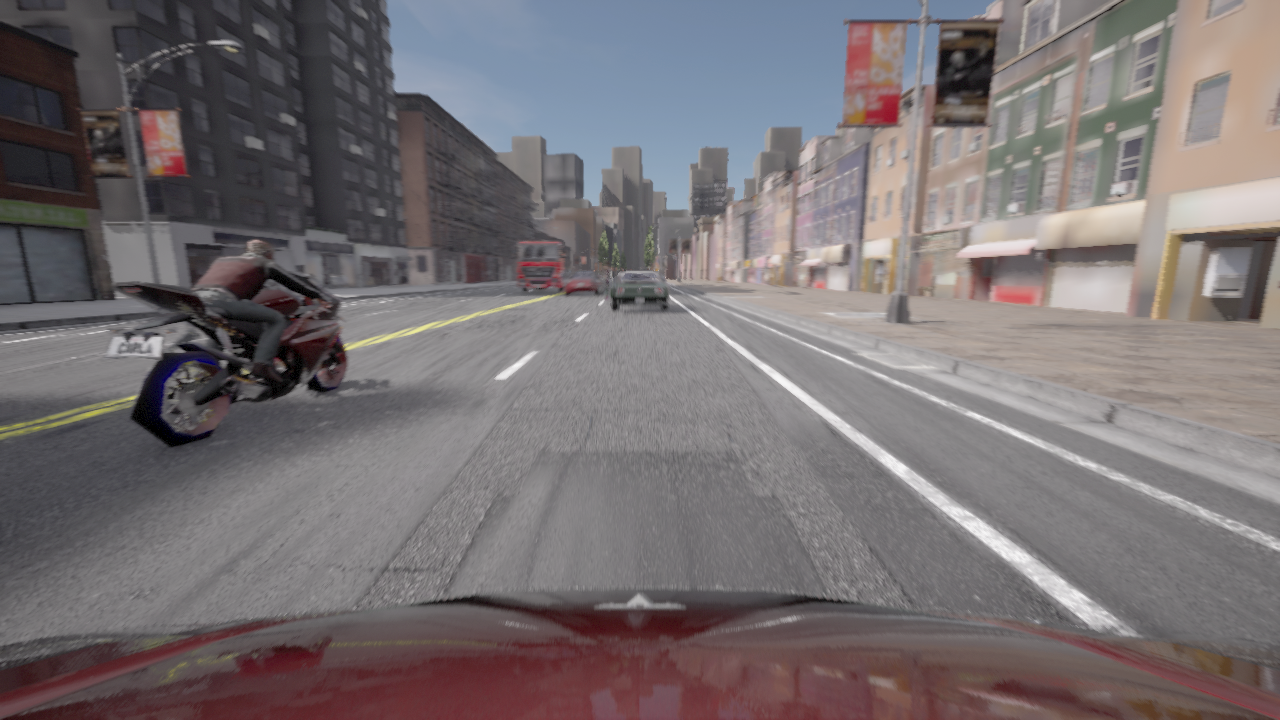cyclist: (0, 588, 1279, 719), (104, 272, 347, 447), (513, 240, 573, 291), (610, 271, 669, 310), (565, 271, 603, 295), (633, 269, 645, 270)
pedestrian: (603, 260, 610, 299)
